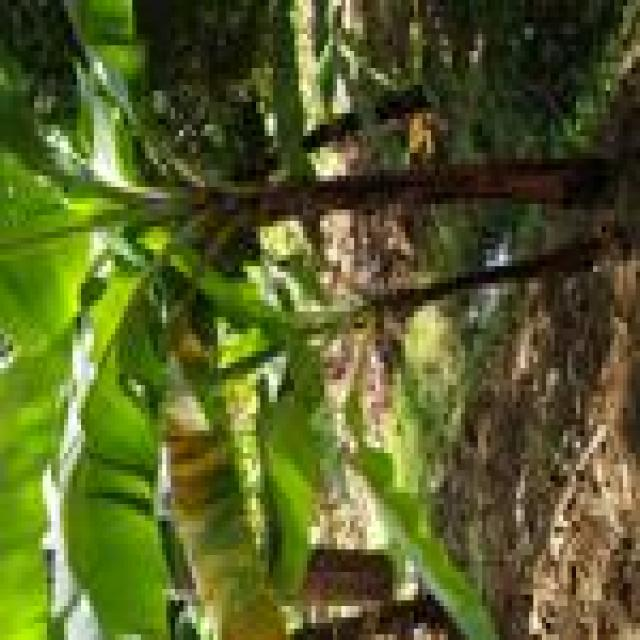Early_rust: (119, 277, 290, 640)
